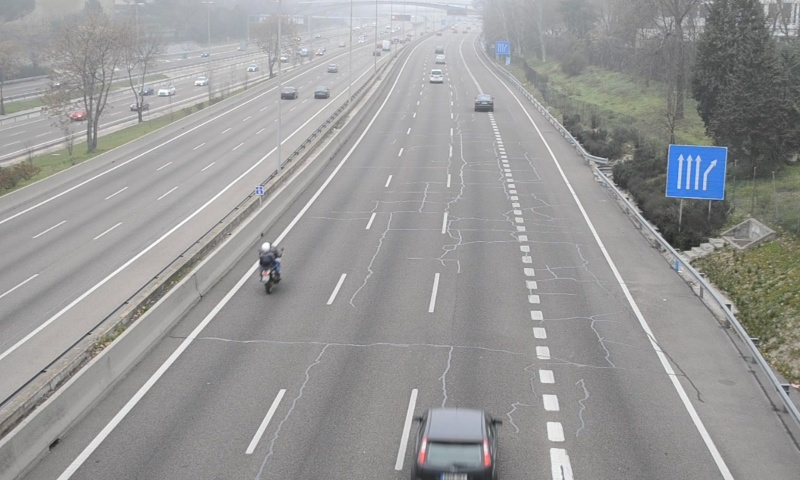car: (412, 408, 502, 480), (473, 94, 493, 112), (428, 70, 444, 84)
motorcycle: (258, 241, 283, 293)
